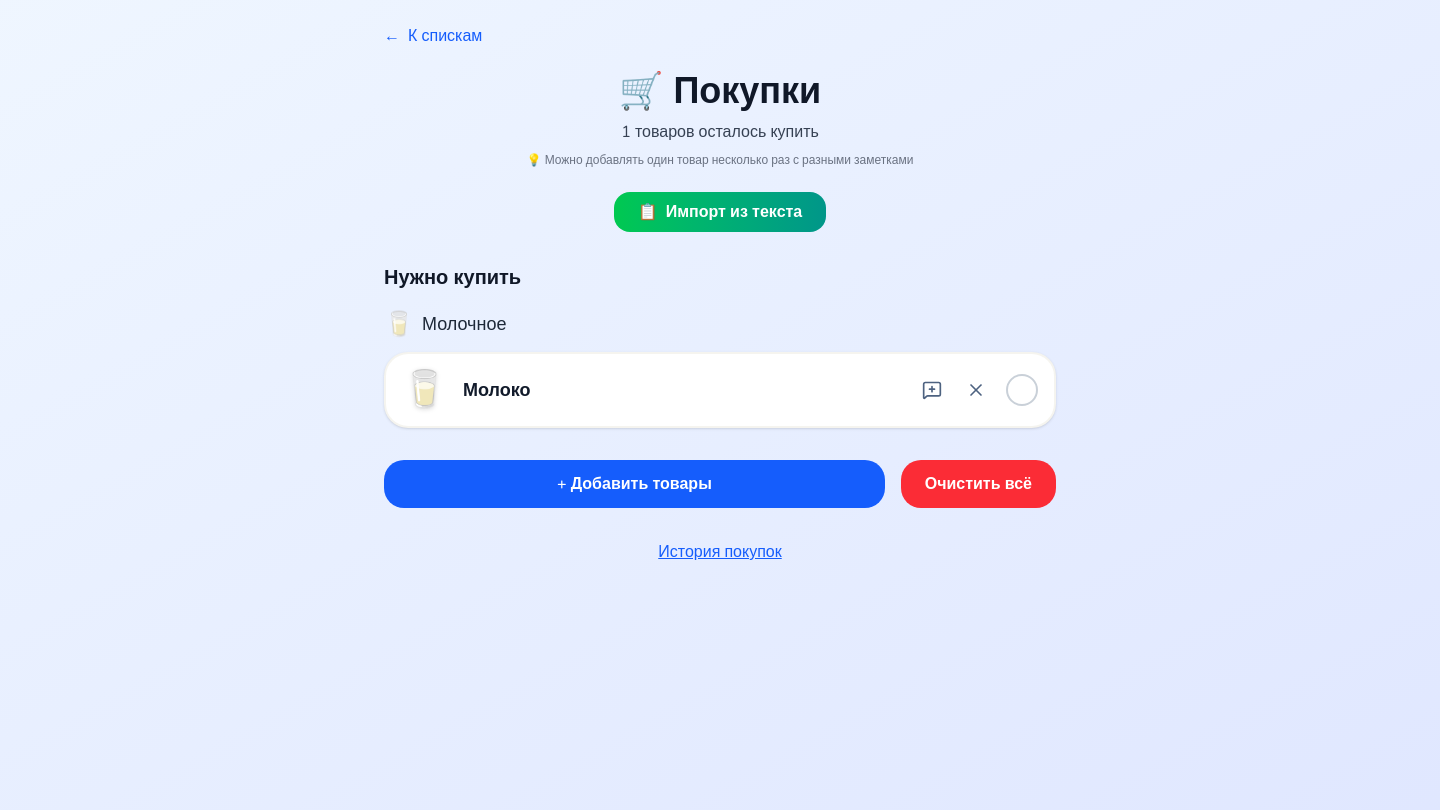
a list with items › keeps the existing import button and does not refetch before an import
Expected: the text "Молоко" is shown, [463,379,530,401]
Click the button "📋 Импорт из текста" at (720, 212), box [614,192,826,232]
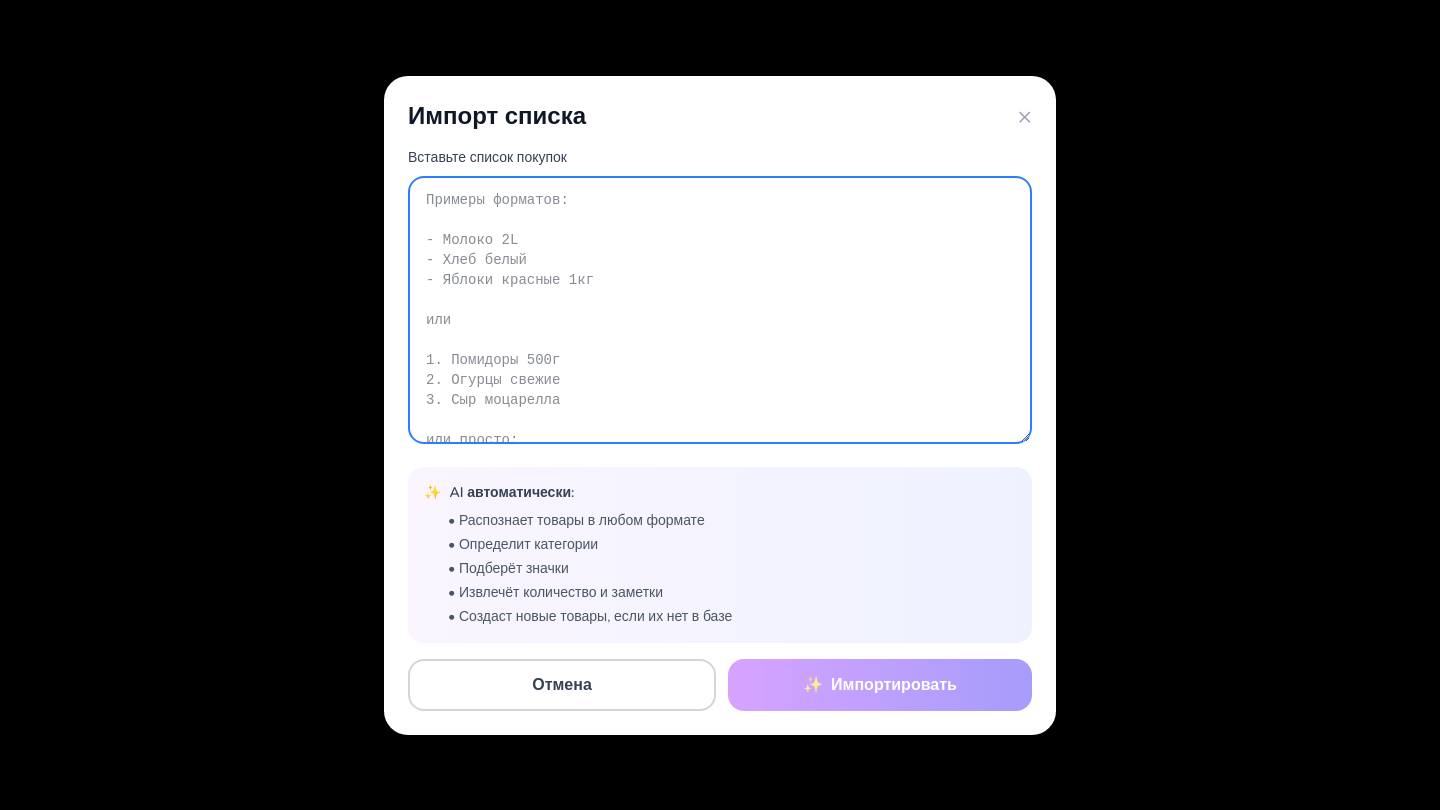
Result: the text box labelled "Вставьте список покупок" is shown at [408,176,1032,444]
